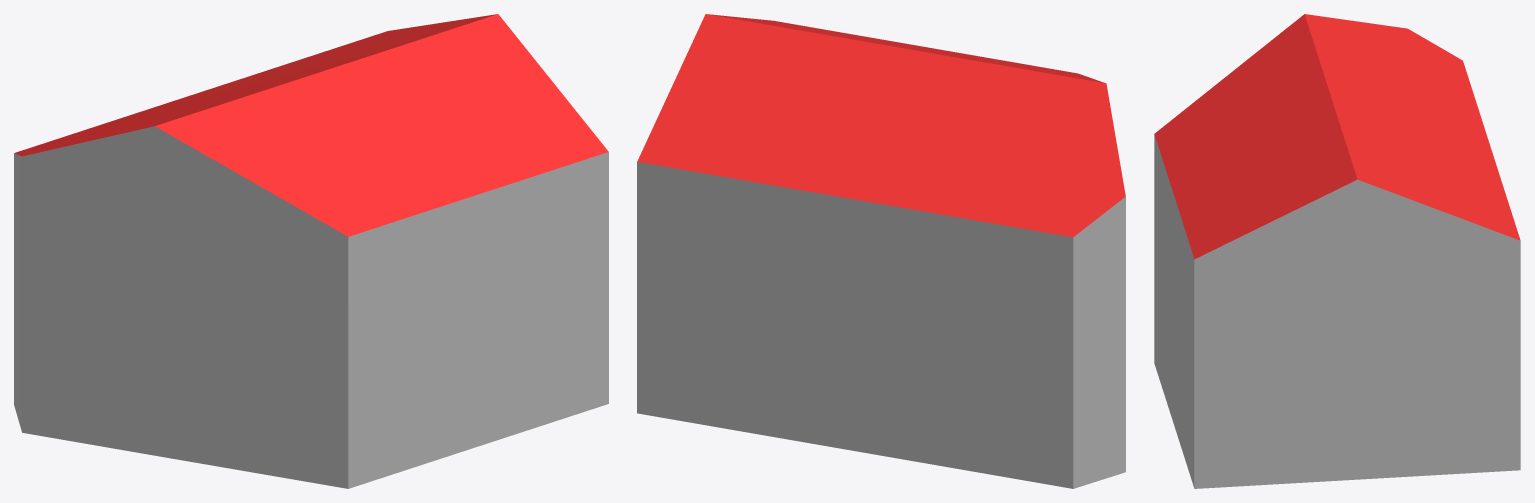
The model's file is DEBY_LOD2_63523.dae.
The picture shows the model from 3 angles, left to right: view 1: azimuth 30°, elevation 25°; view 2: azimuth 150°, elevation 25°; view 3: azimuth 270°, elevation 25°; orthographic projection. The views are drawn at different scales.
Size of the model in its own units: 18.57 by 13.78 by 12.45.
